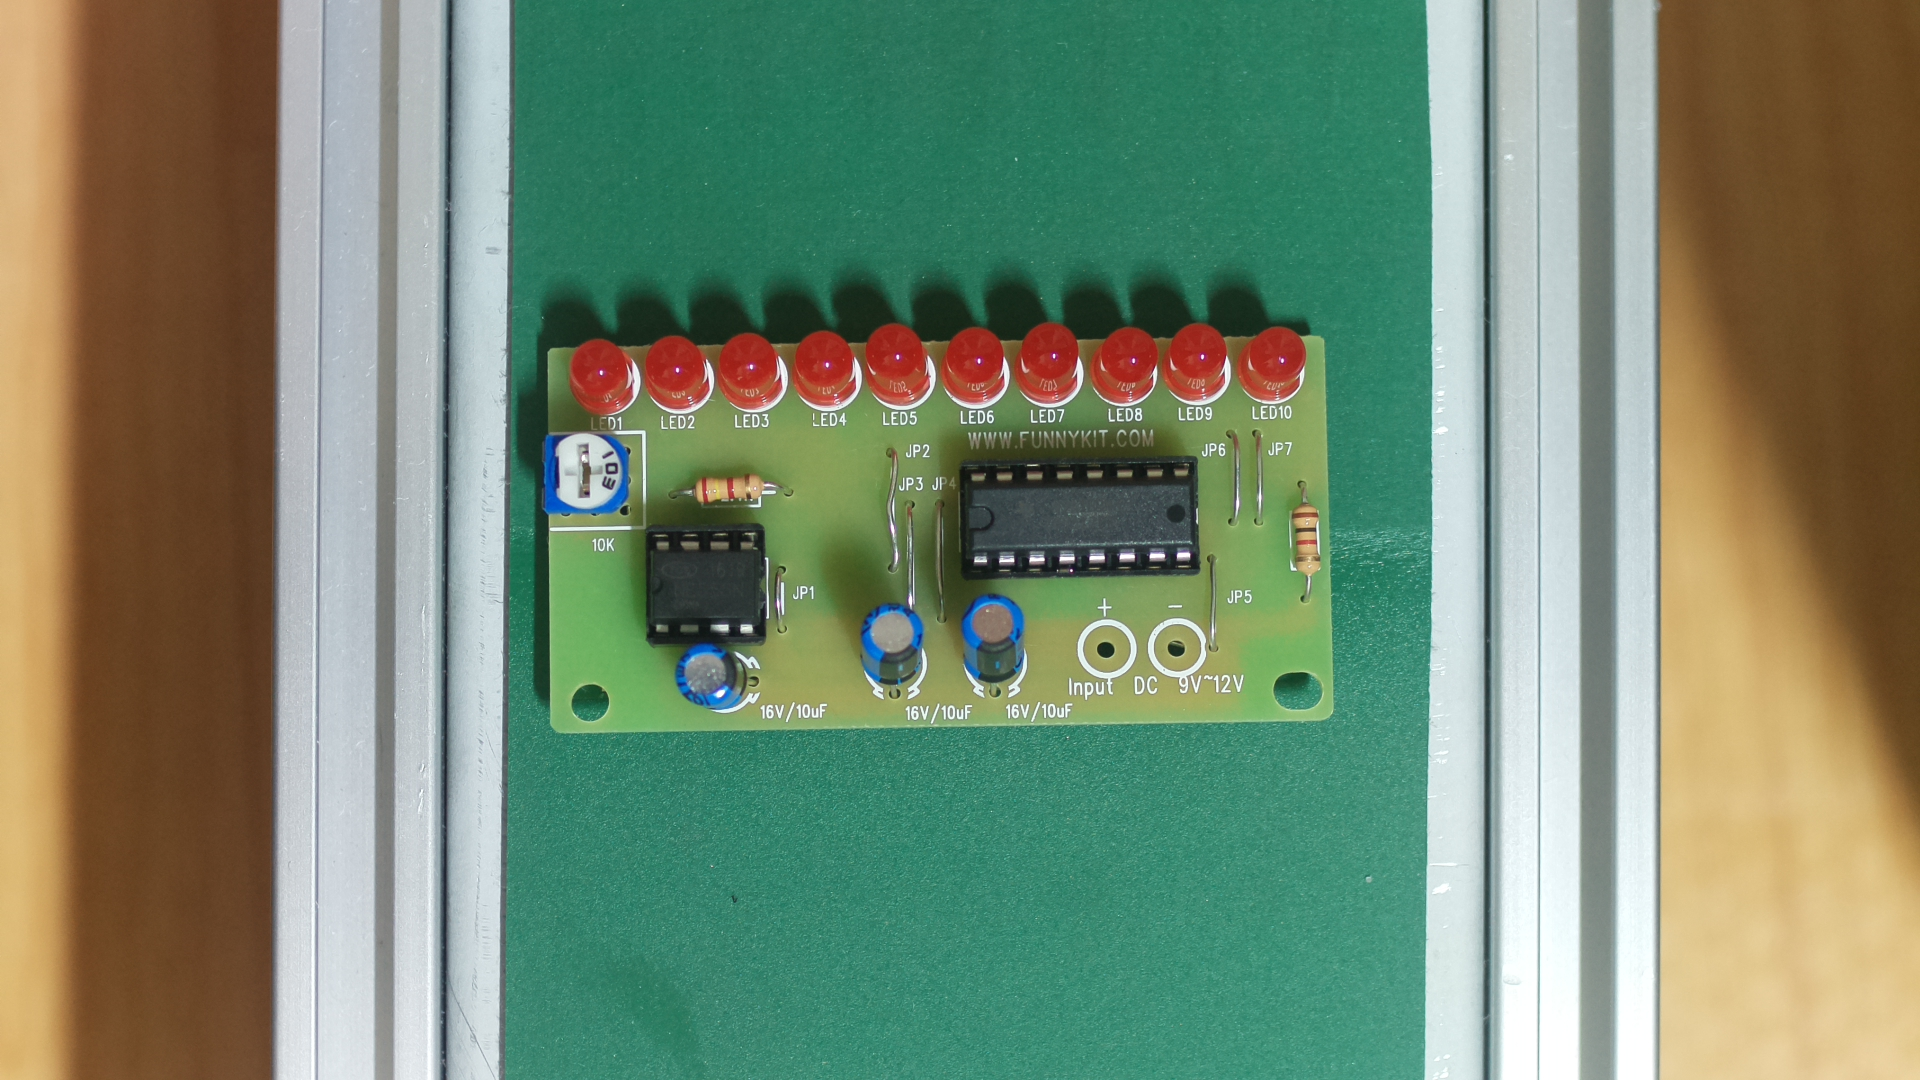B_Normal: (533, 316, 1346, 757)
